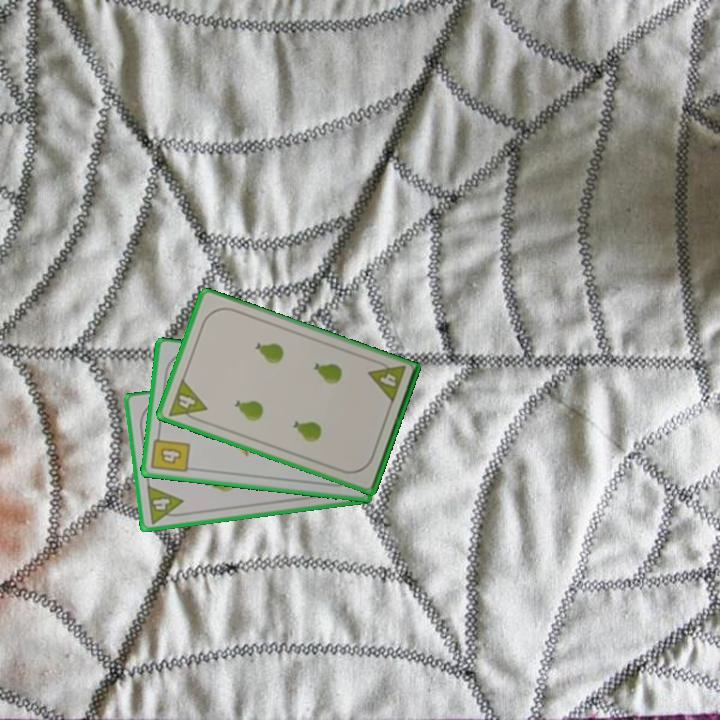4b: (148, 429, 193, 476)
4p: (164, 375, 210, 426), (365, 356, 409, 407), (143, 482, 187, 526)
